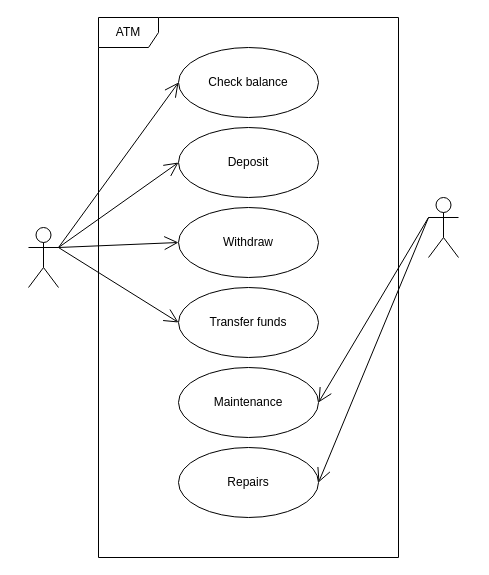
This 489x575 diagram has some shape labels left out. Here are the shapes that lost their labels. From the top down, the centre of each, then its label:
At point 443,227: "Technician".
At point 43,257: "Customer".
